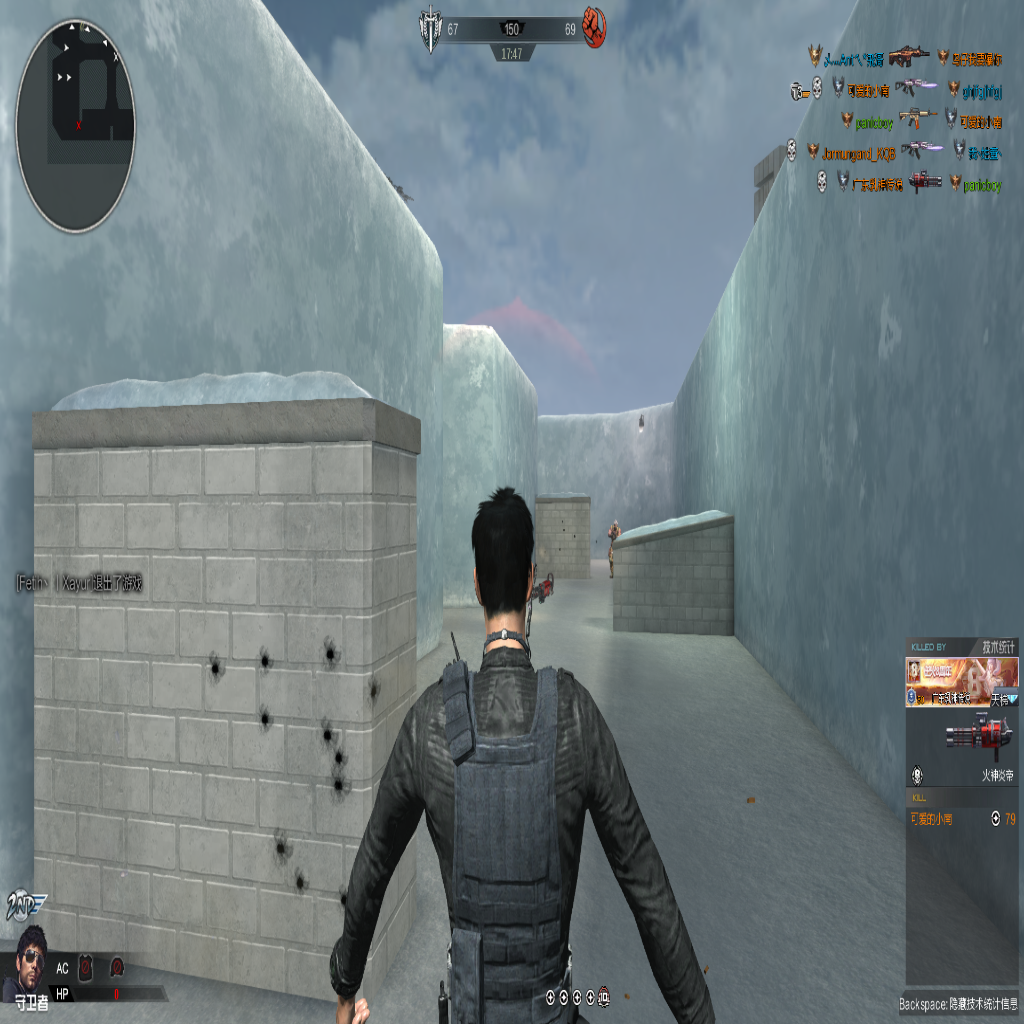tt: (607, 519, 620, 576)
